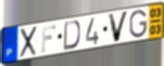4: (85, 16, 100, 46)
D: (62, 20, 81, 51)
F: (41, 24, 57, 54)
G: (128, 9, 148, 40)
V: (107, 10, 131, 44)
X: (19, 24, 39, 59)
